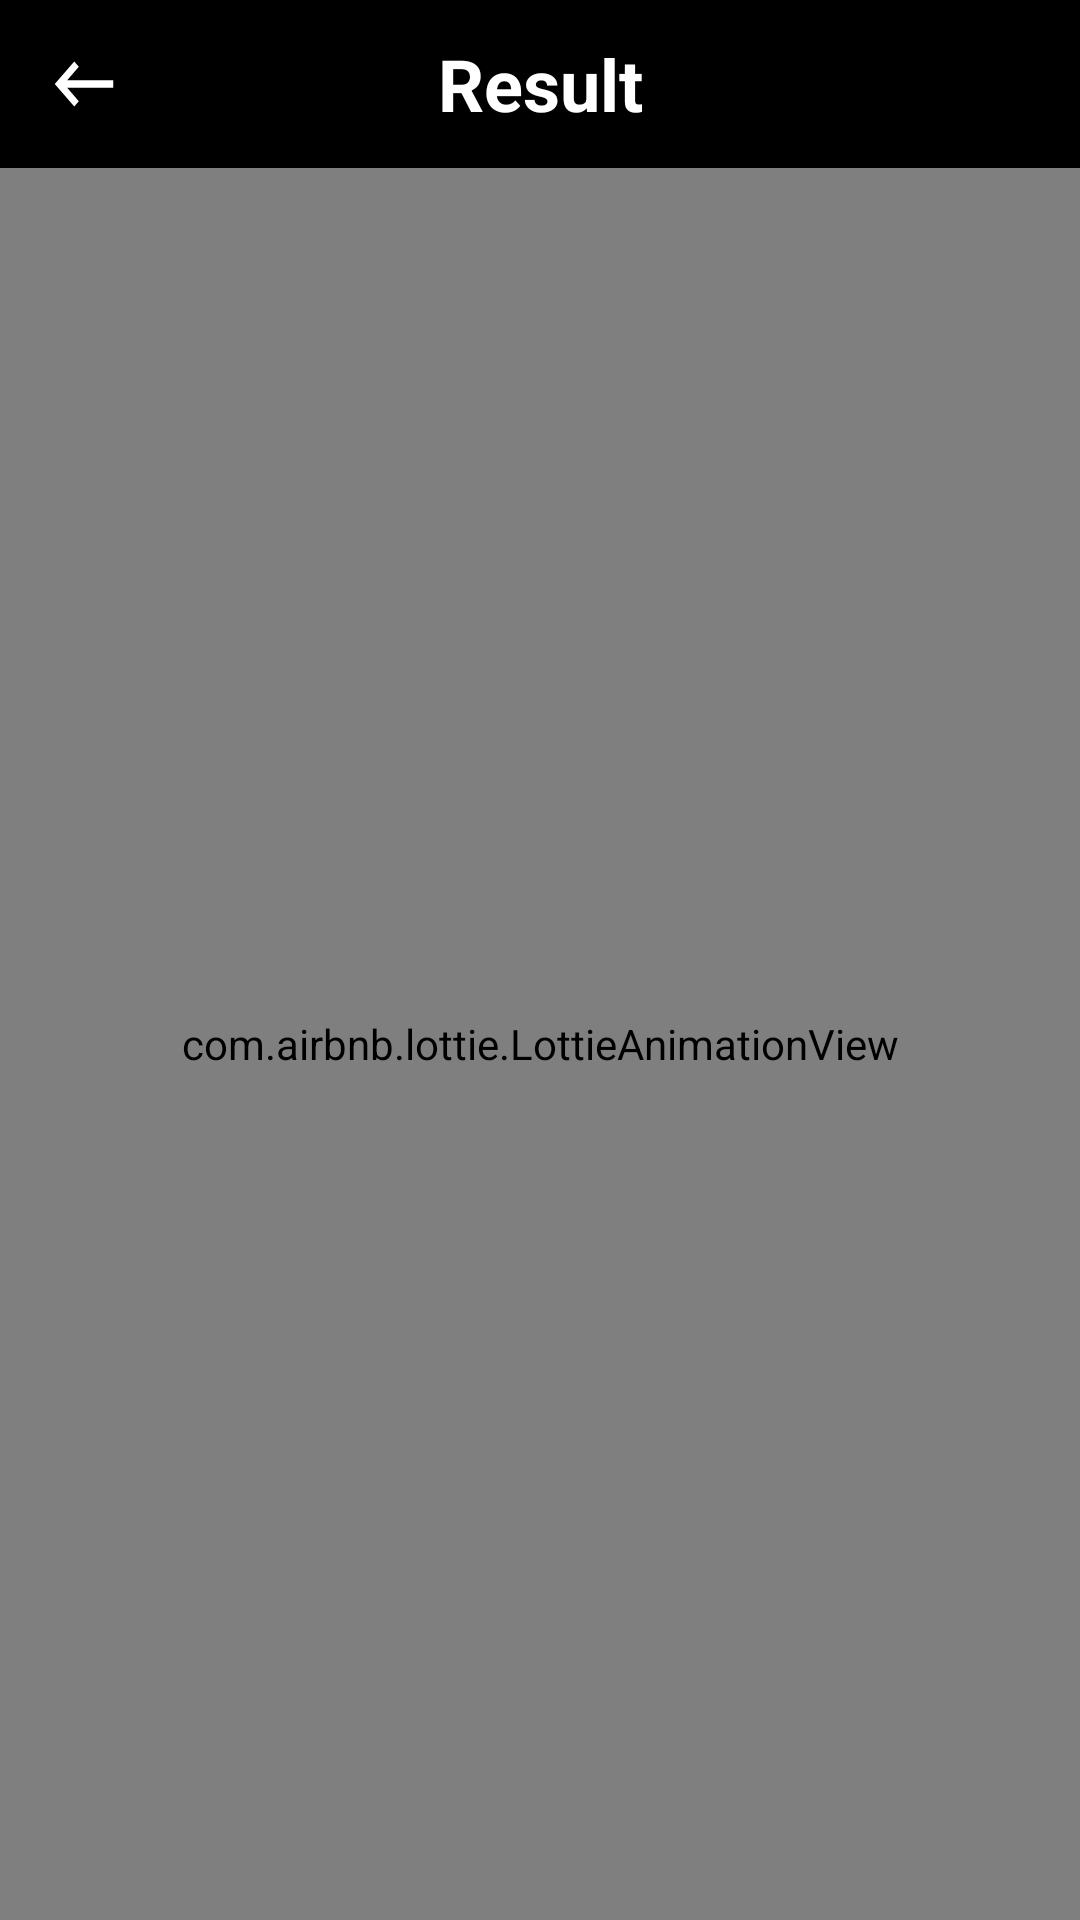

Point at icon controls on the screen. Image size 1080x1920, points as [x,y].
back: [84,84]
